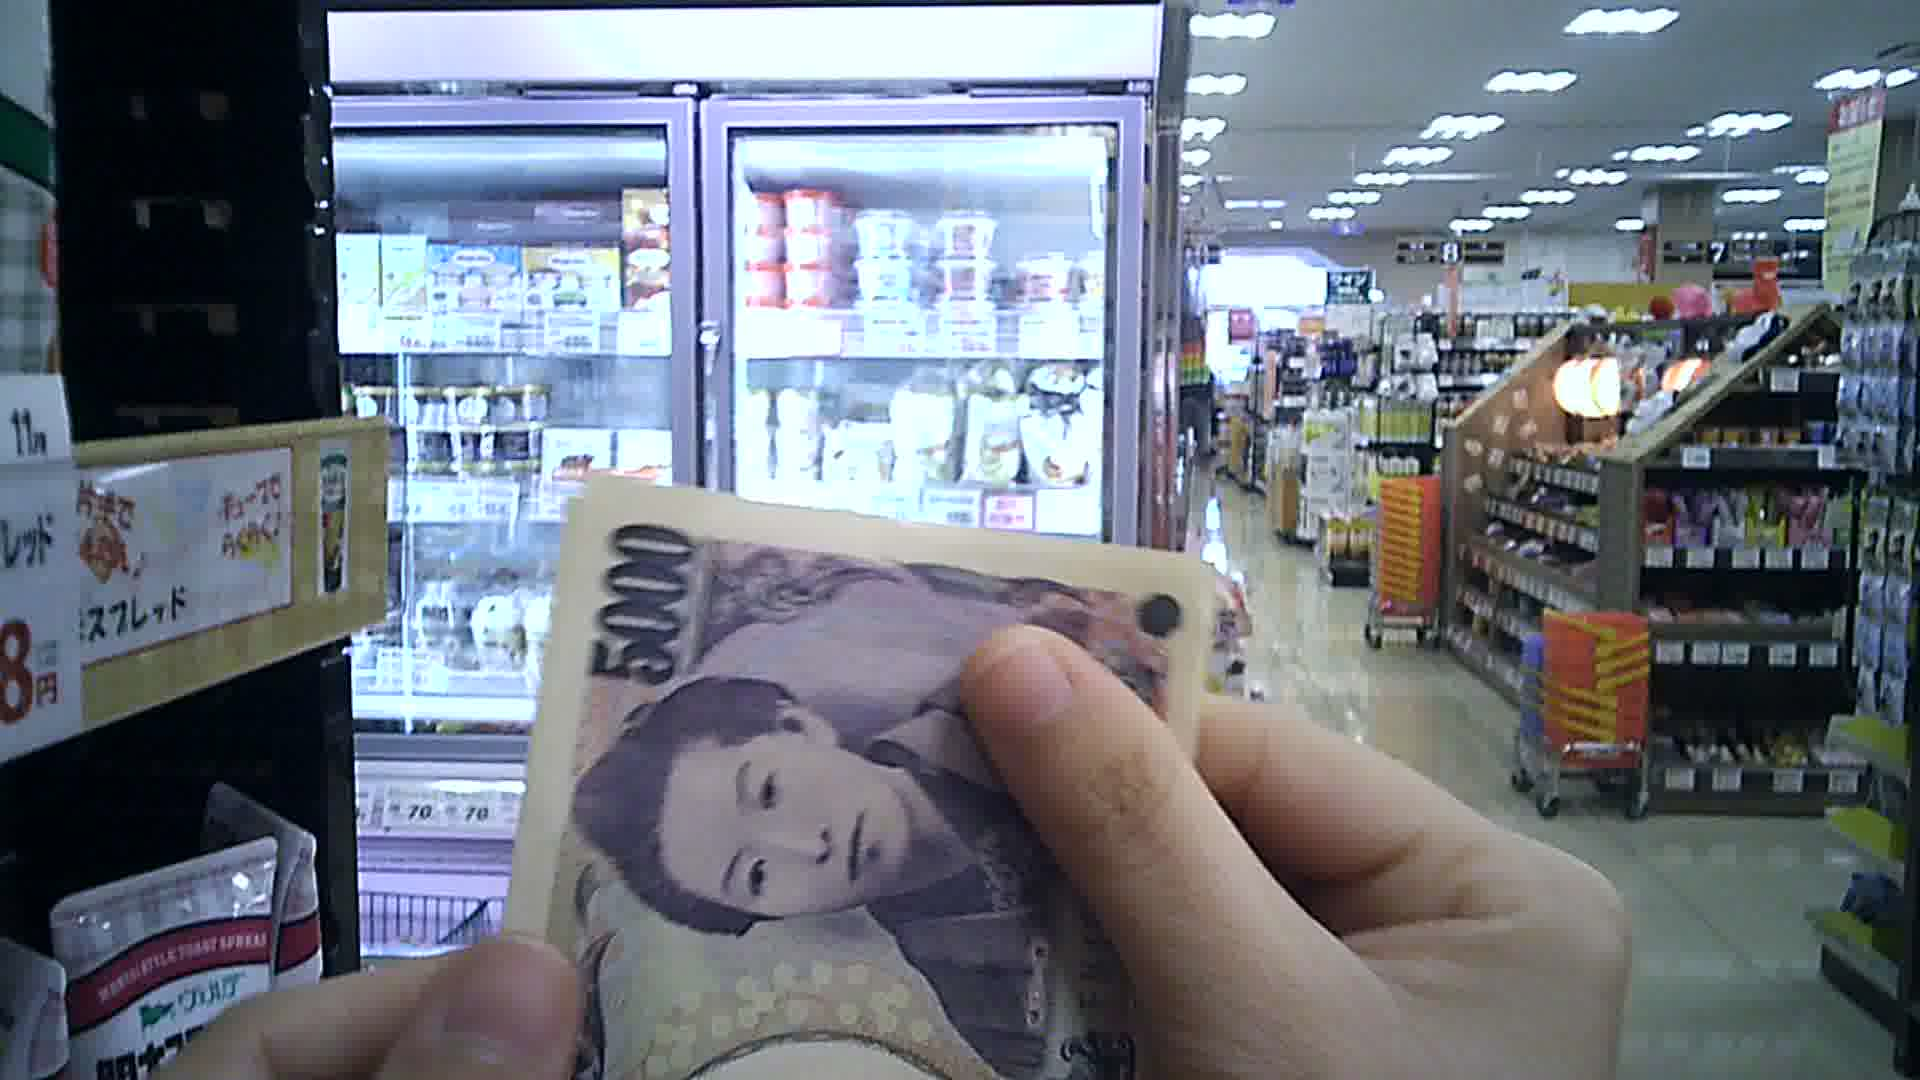5,000 Yen: (501, 473, 1261, 1079)
